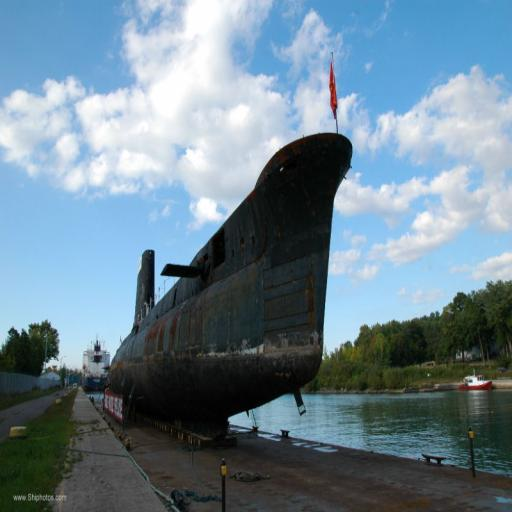submarine: (108, 141, 352, 408)
